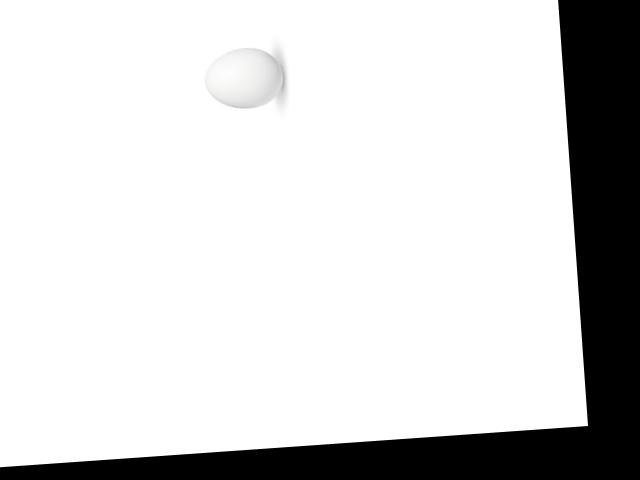egg: (202, 45, 284, 110)
